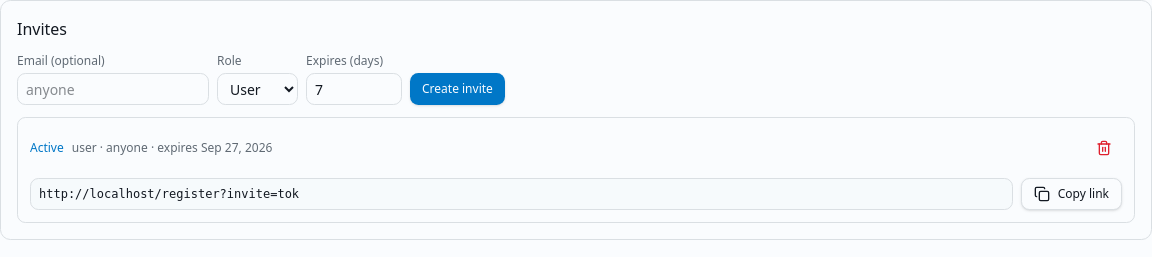
Scenario: with a clipboard, Copy copies the link
Step 1. Click the button "Copy link" → (1071,194), box [1021,178,1122,210]
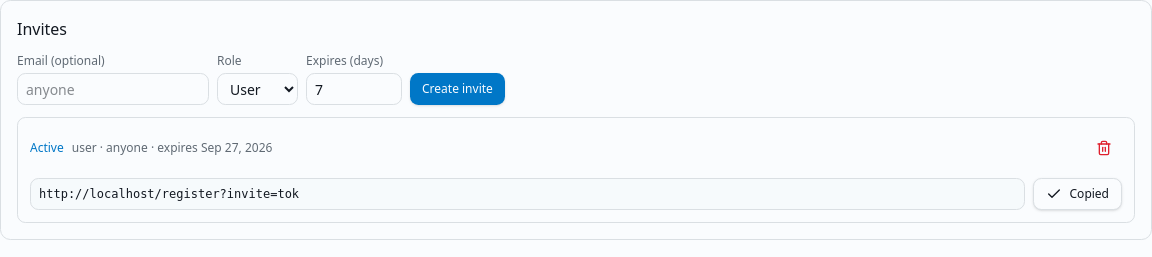
Expected: the button "Copied" is shown, [1032,178,1122,210]
